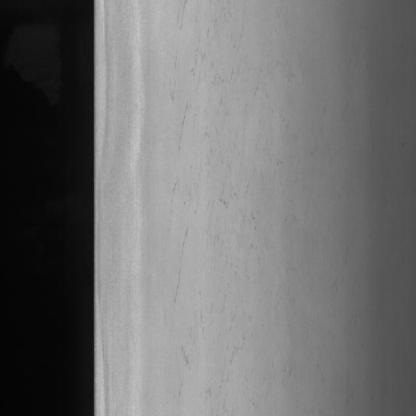silk_spot: (153, 0, 290, 401)
